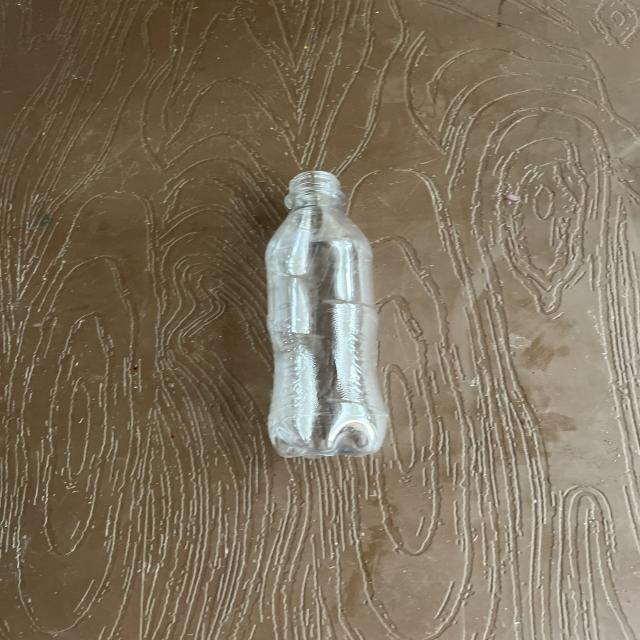PET_ClearBottle: (271, 162, 490, 447)
